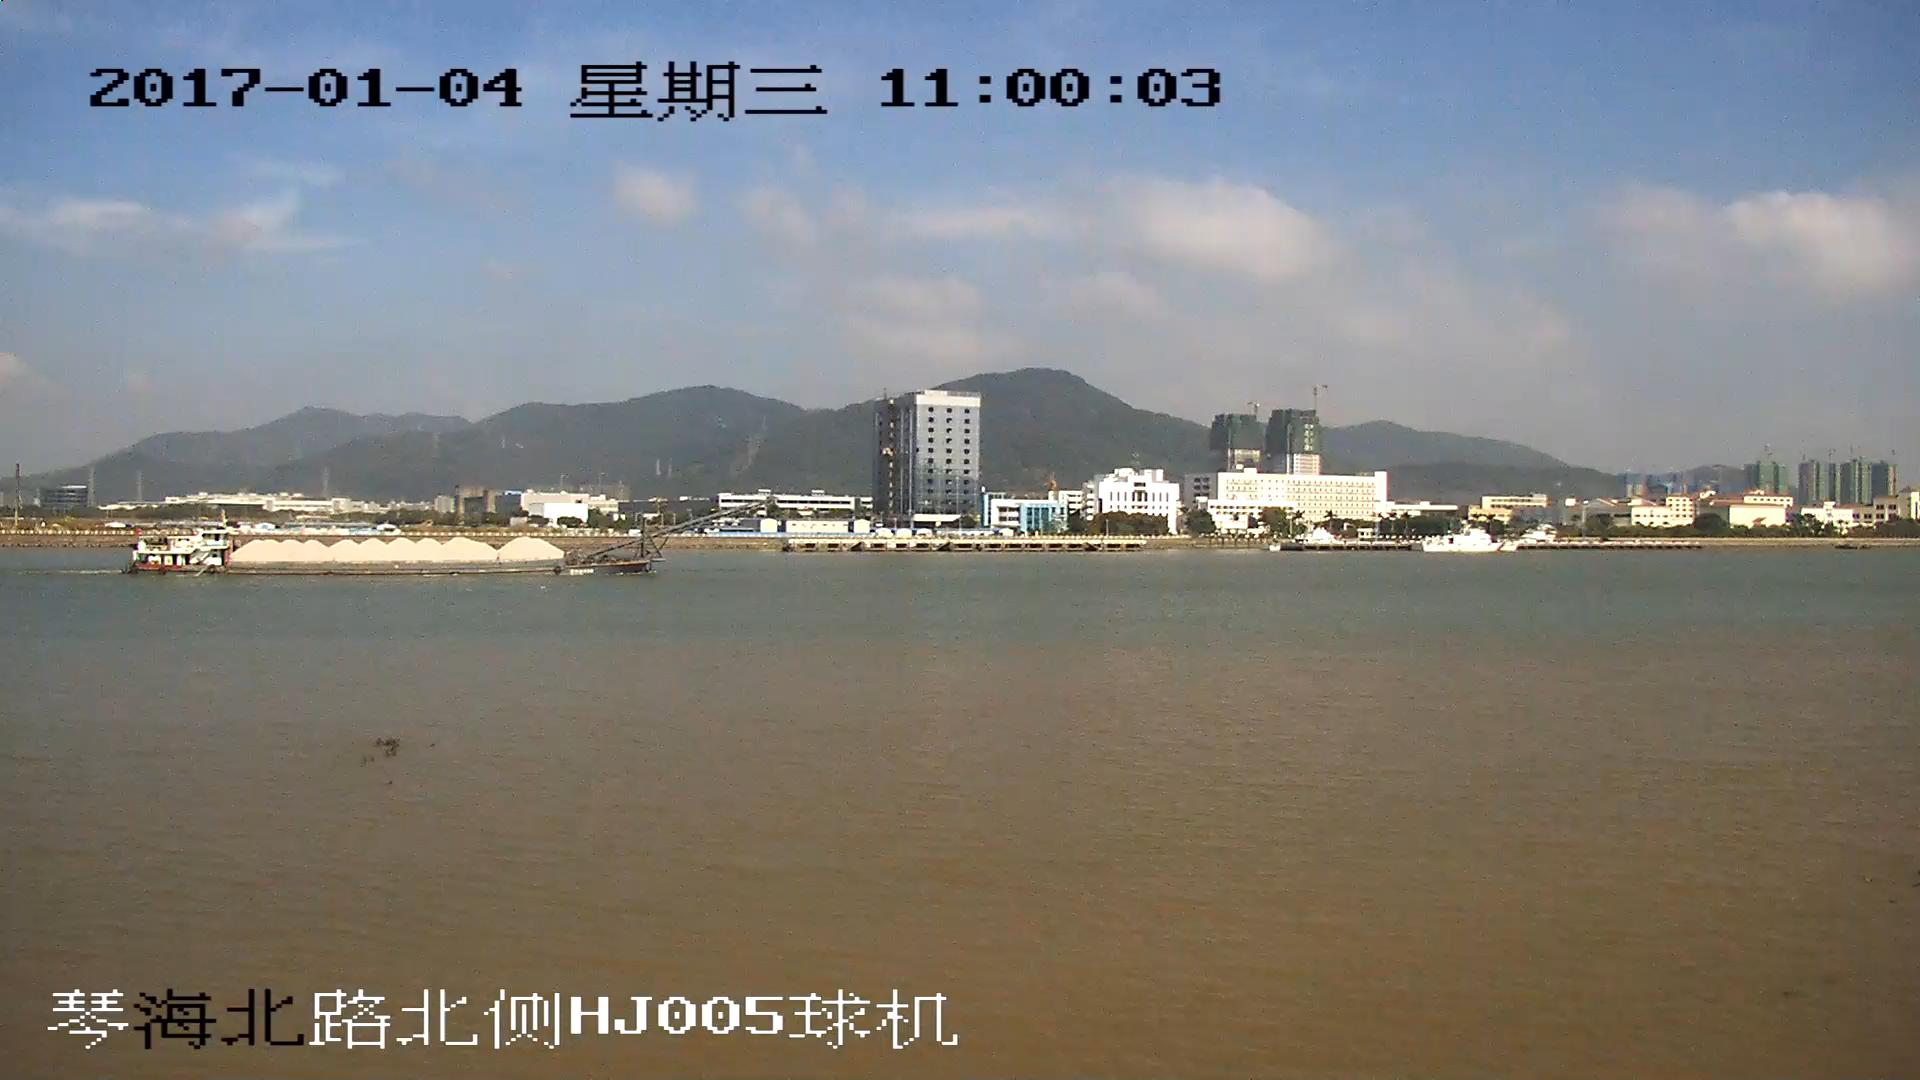ore carrier: (131, 501, 762, 580)
